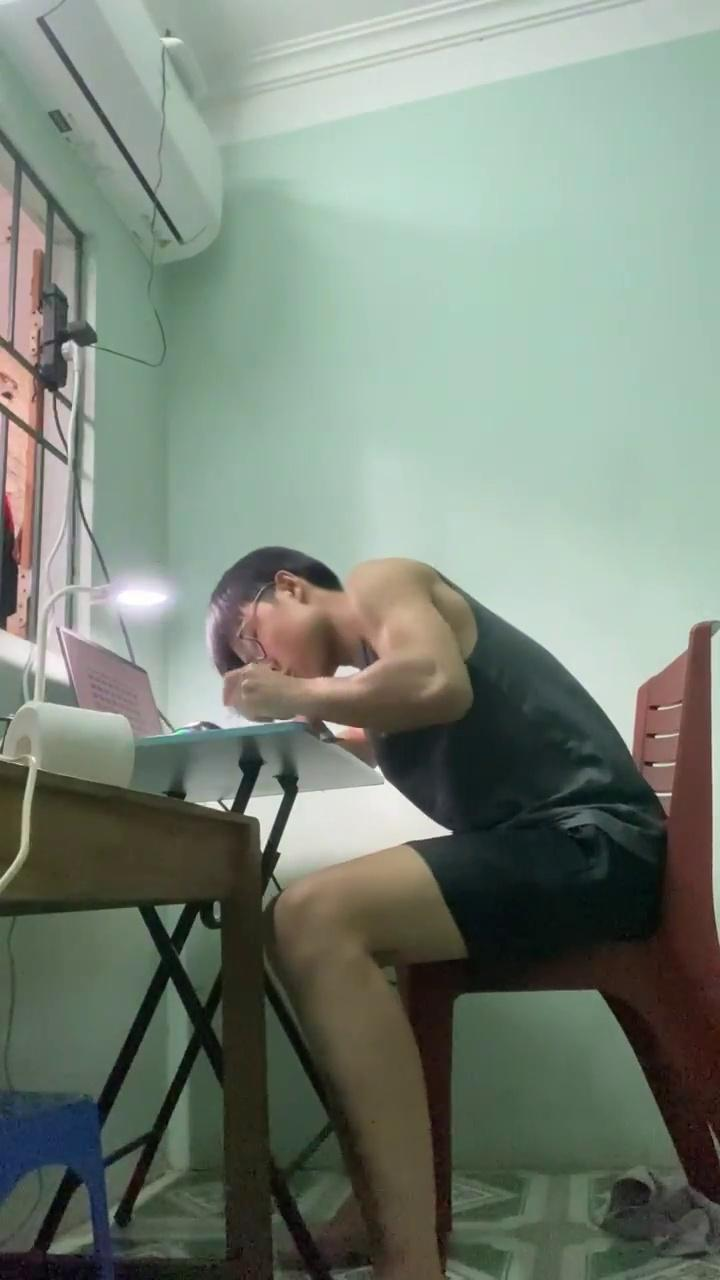BadPosture: (207, 546, 666, 1279)
